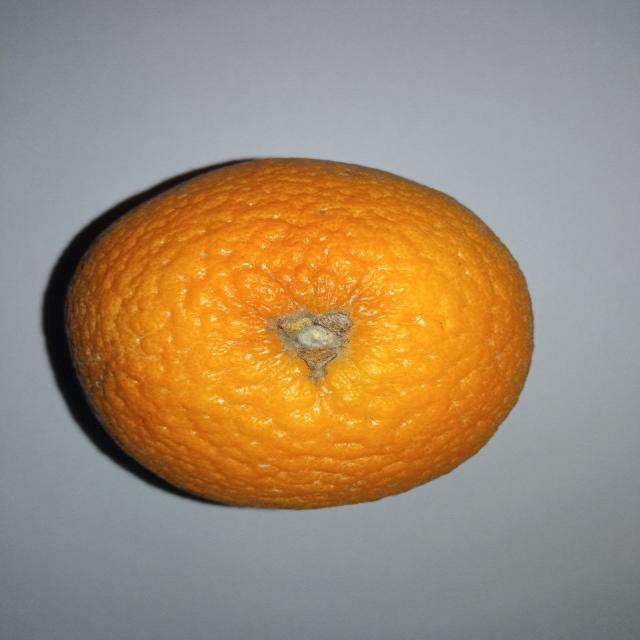fresh_orange: (65, 157, 531, 508)
